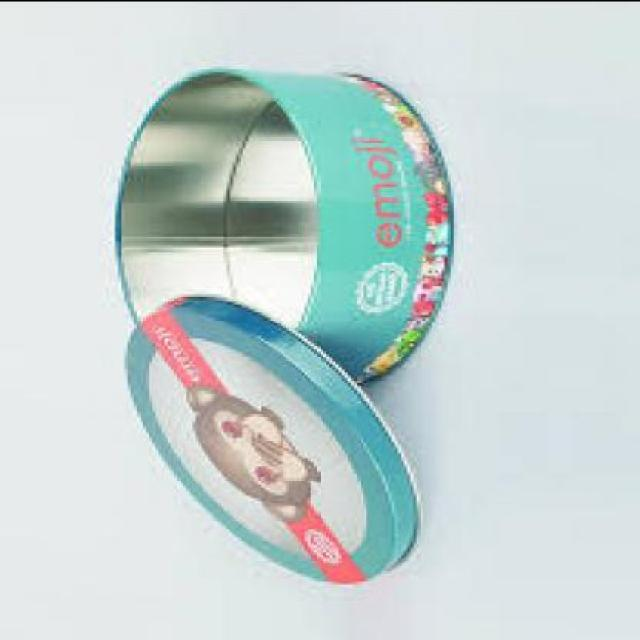METAL: (112, 70, 454, 387), (121, 298, 419, 585)
